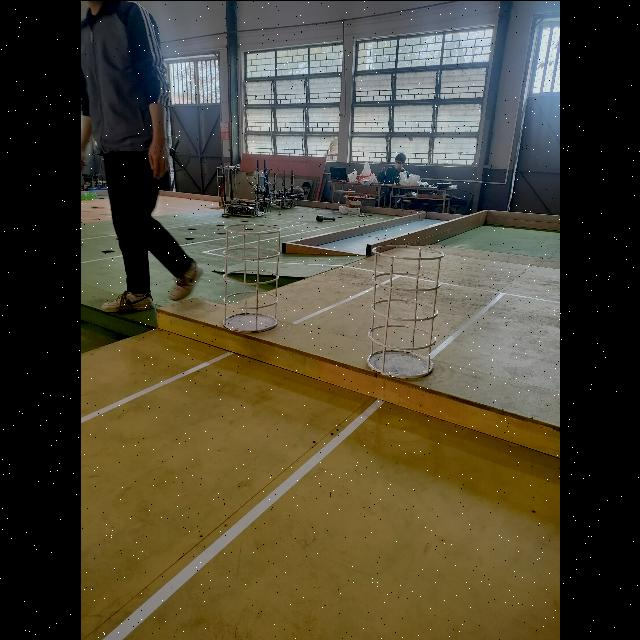S: (364, 242, 444, 378), (218, 220, 284, 332)
